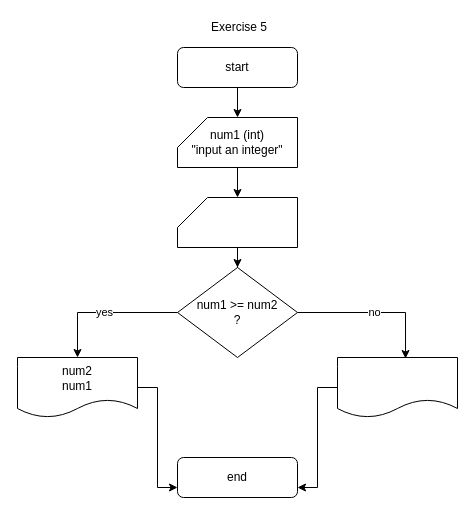
Some shapes in this 475 by 515 pixel diagram are drawn without their labels. The centre of each missing label's shape, as x and y in pixels:
num1 num2: point 397,387
num2 (int) "input another integer": point 237,222
